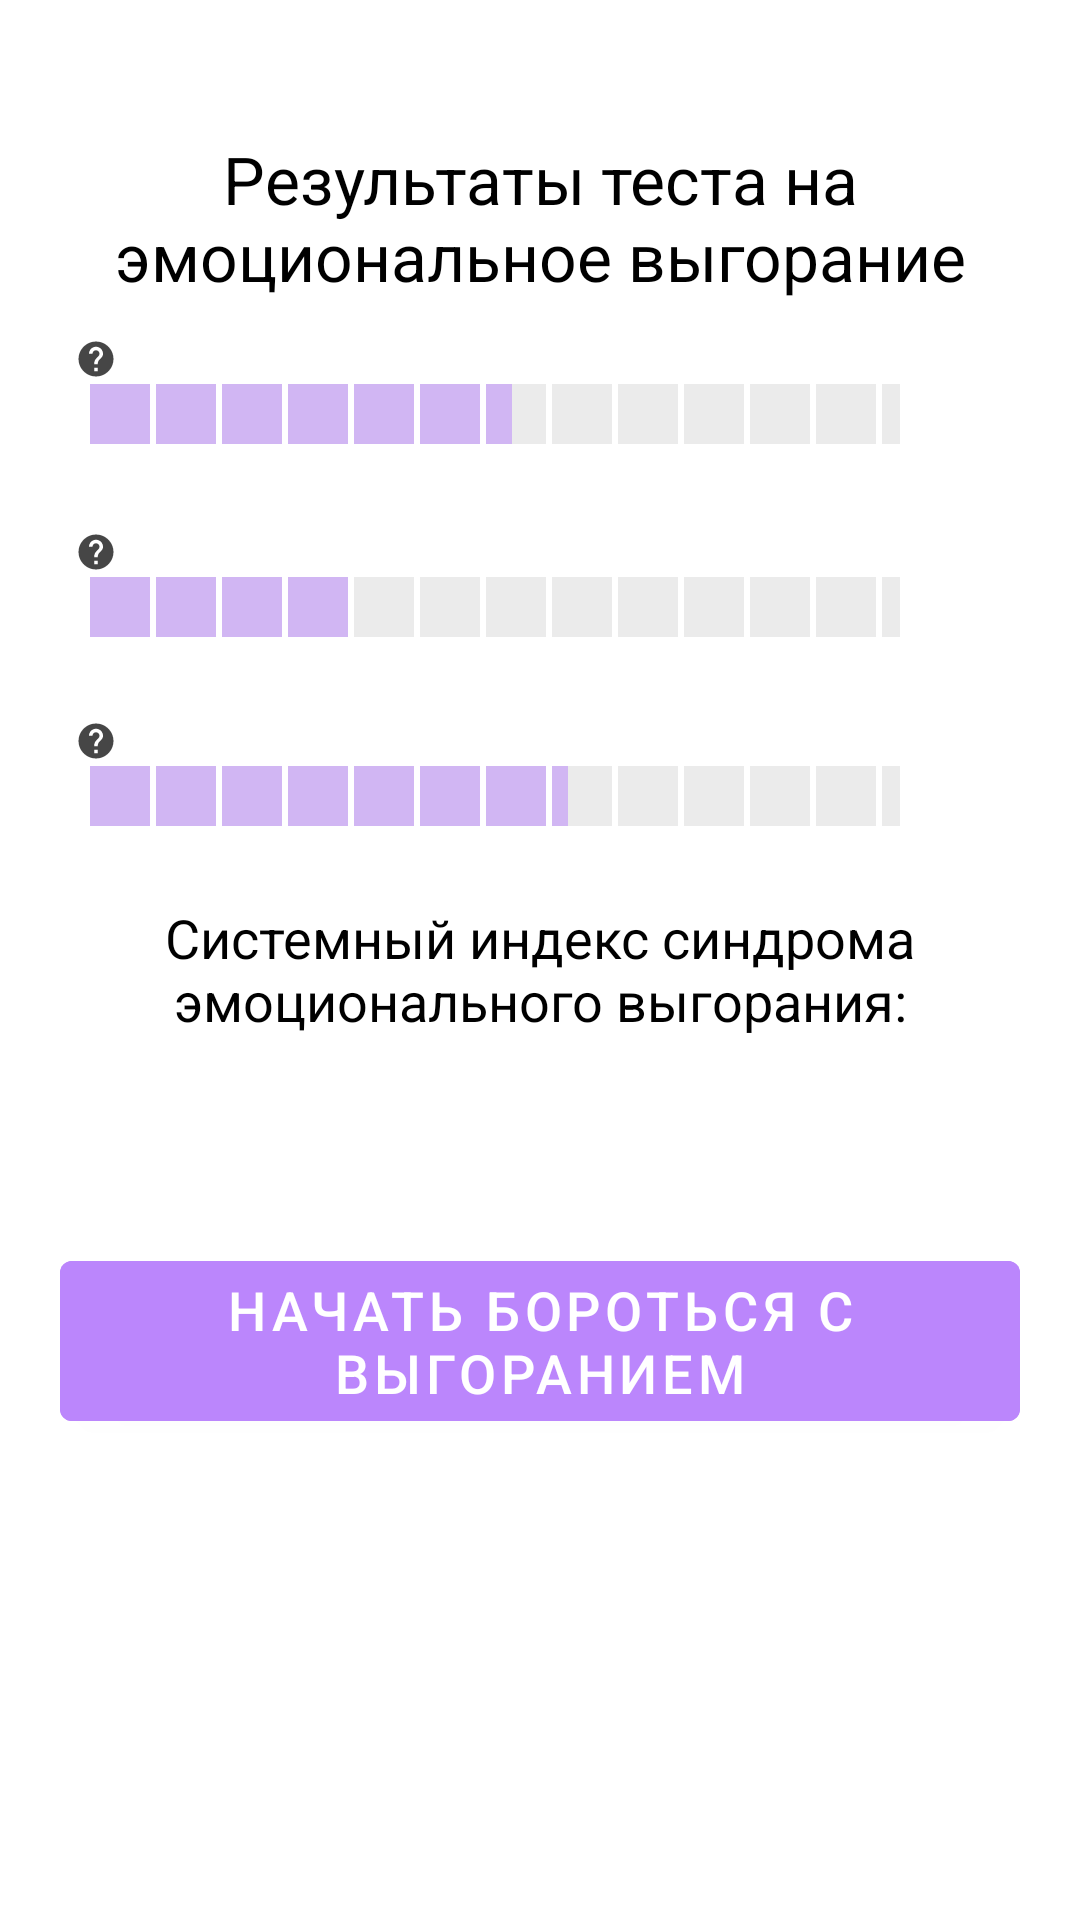

Locate icon controls on the screen. Image size 1080×1920, boxes as (x1, y1, x2, y2).
help: (78, 341, 114, 377), (78, 534, 114, 570), (78, 723, 114, 759)
